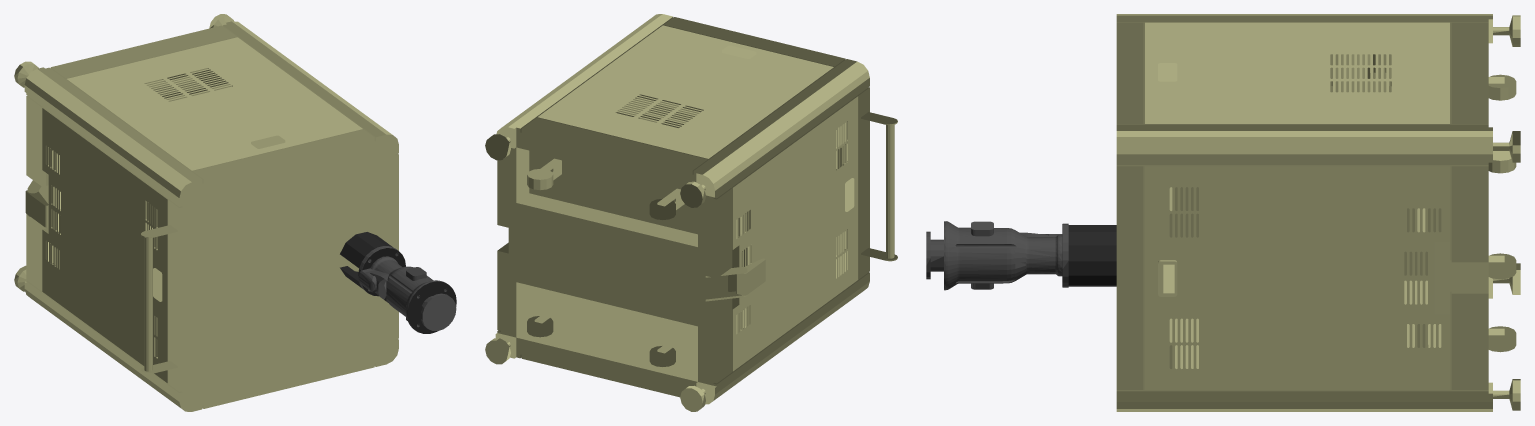
Rendered from WAIST_Link_mesh.obj.
3 renders of one model, left to right at view 1: azimuth 30°, elevation 25°; view 2: azimuth 150°, elevation 25°; view 3: azimuth 270°, elevation 25°, orthographic. The views are drawn at different scales.
Visible parts, largest first — view 1: shape2-lib, shape1-lib, shape0-lib; view 2: shape2-lib; view 3: shape2-lib, shape1-lib, shape0-lib.
Part boxes in pixels (left/top/right/bottom): shape2-lib: left=14, top=14, right=398, bottom=411; shape1-lib: left=358, top=246, right=456, bottom=333; shape0-lib: left=340, top=232, right=392, bottom=288; shape2-lib: left=485, top=14, right=897, bottom=411; shape2-lib: left=1116, top=14, right=1520, bottom=411; shape1-lib: left=926, top=221, right=1068, bottom=290; shape0-lib: left=1068, top=225, right=1116, bottom=286.
Bounding box in the file's own units: 0.669 × 0.588 × 1.12.
